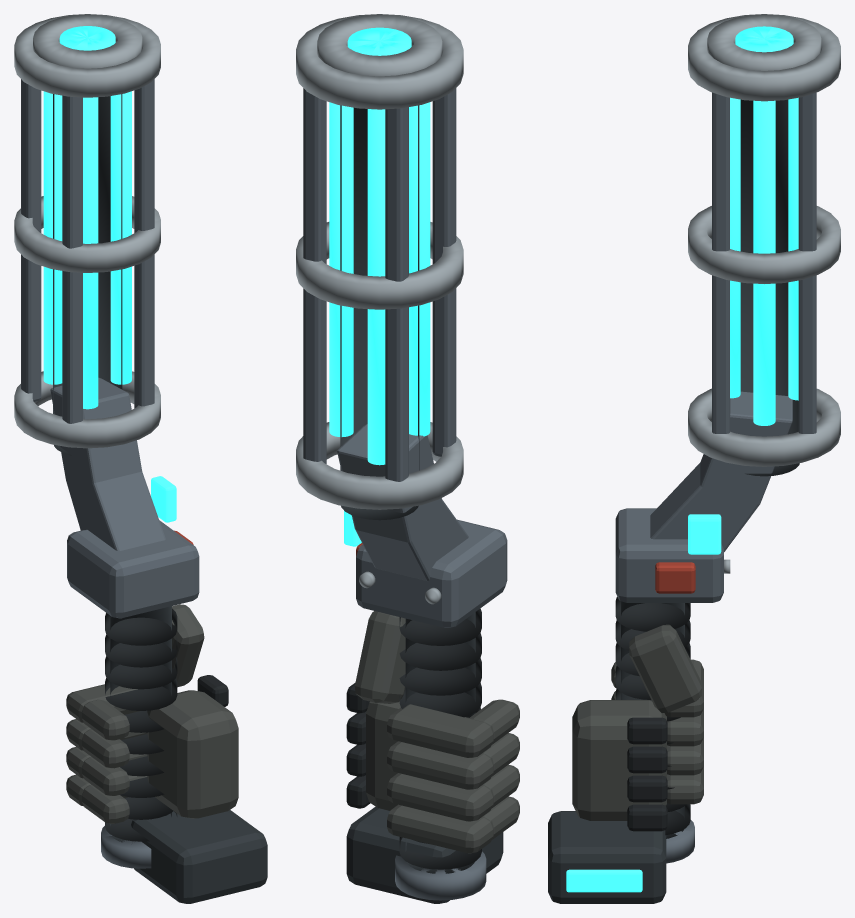
The model's file is baton.glb.
3 renders of one model, left to right at view 1: azimuth 30°, elevation 25°; view 2: azimuth 150°, elevation 25°; view 3: azimuth 270°, elevation 25°, orthographic. The views are drawn at different scales.
Visible parts, largest first — view 1: Parts_Parkerized steel, Parts_Machined steel, Parts_Charcoal glove, Parts_Charge indicator, Parts_Graphite polymer, Parts_Rubber; view 2: Parts_Parkerized steel, Parts_Machined steel, Parts_Charcoal glove, Parts_Charge indicator, Parts_Graphite polymer, Parts_Rubber; view 3: Parts_Parkerized steel, Parts_Machined steel, Parts_Charge indicator, Parts_Graphite polymer, Parts_Charcoal glove, Parts_Rubber, Parts_Safety red.
Part boxes in pixels (<box>): Parts_Parkerized steel: <box>21,79,199,868</box>; Parts_Machined steel: <box>14,14,160,448</box>; Parts_Charcoal glove: <box>66,604,238,823</box>; Parts_Charge indicator: <box>43,26,176,522</box>; Parts_Graphite polymer: <box>53,94,267,903</box>; Parts_Rubber: <box>105,608,228,841</box>; Parts_Parkerized steel: <box>303,88,507,900</box>; Parts_Machined steel: <box>296,14,463,604</box>; Parts_Charcoal glove: <box>354,611,519,853</box>; Parts_Charge indicator: <box>329,27,430,546</box>; Parts_Graphite polymer: <box>340,105,503,903</box>; Parts_Rubber: <box>346,608,481,869</box>; Parts_Parkerized steel: <box>615,92,816,863</box>; Parts_Machined steel: <box>688,14,840,573</box>; Parts_Charge indicator: <box>566,26,798,892</box>; Parts_Graphite polymer: <box>548,99,799,903</box>; Parts_Charcoal glove: <box>572,624,703,820</box>; Parts_Rubber: <box>615,596,690,835</box>; Parts_Safety red: <box>655,562,695,593</box>.
Size of the model in its own units: 0.129 by 0.6575 by 0.2105.
